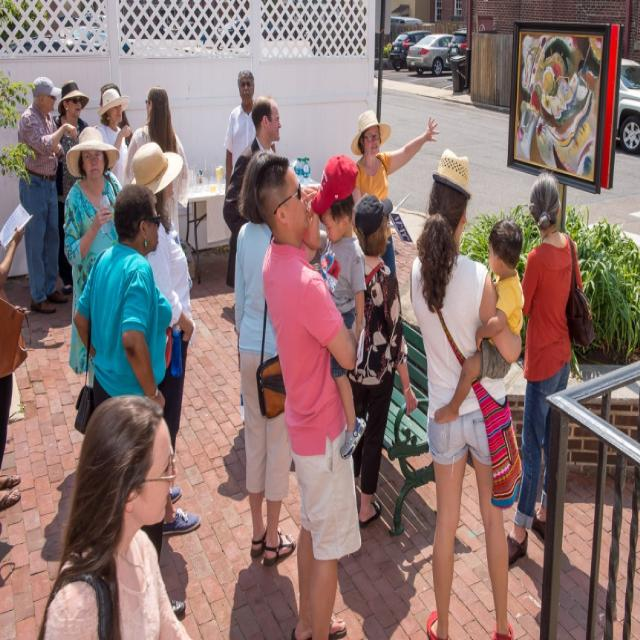body: (249, 149, 367, 639), (408, 147, 524, 639), (70, 178, 188, 629), (487, 167, 597, 571), (36, 393, 191, 640), (128, 140, 202, 538), (234, 147, 298, 569), (345, 190, 419, 530), (429, 212, 527, 428), (308, 147, 370, 465), (61, 125, 126, 389), (349, 109, 442, 278), (16, 74, 70, 316), (222, 95, 283, 289), (120, 85, 192, 236), (52, 79, 92, 296), (0, 214, 22, 521), (223, 69, 257, 195), (94, 86, 133, 193), (95, 80, 131, 132)
